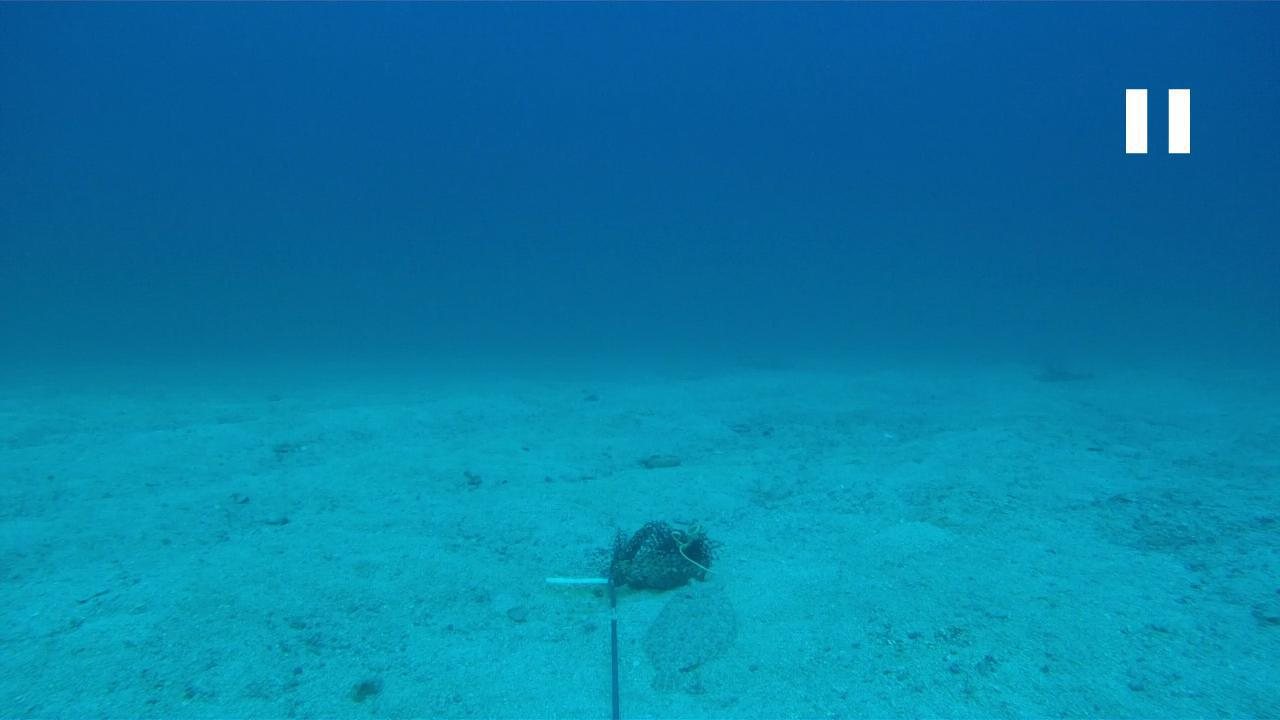bothus: (629, 572, 748, 691)
